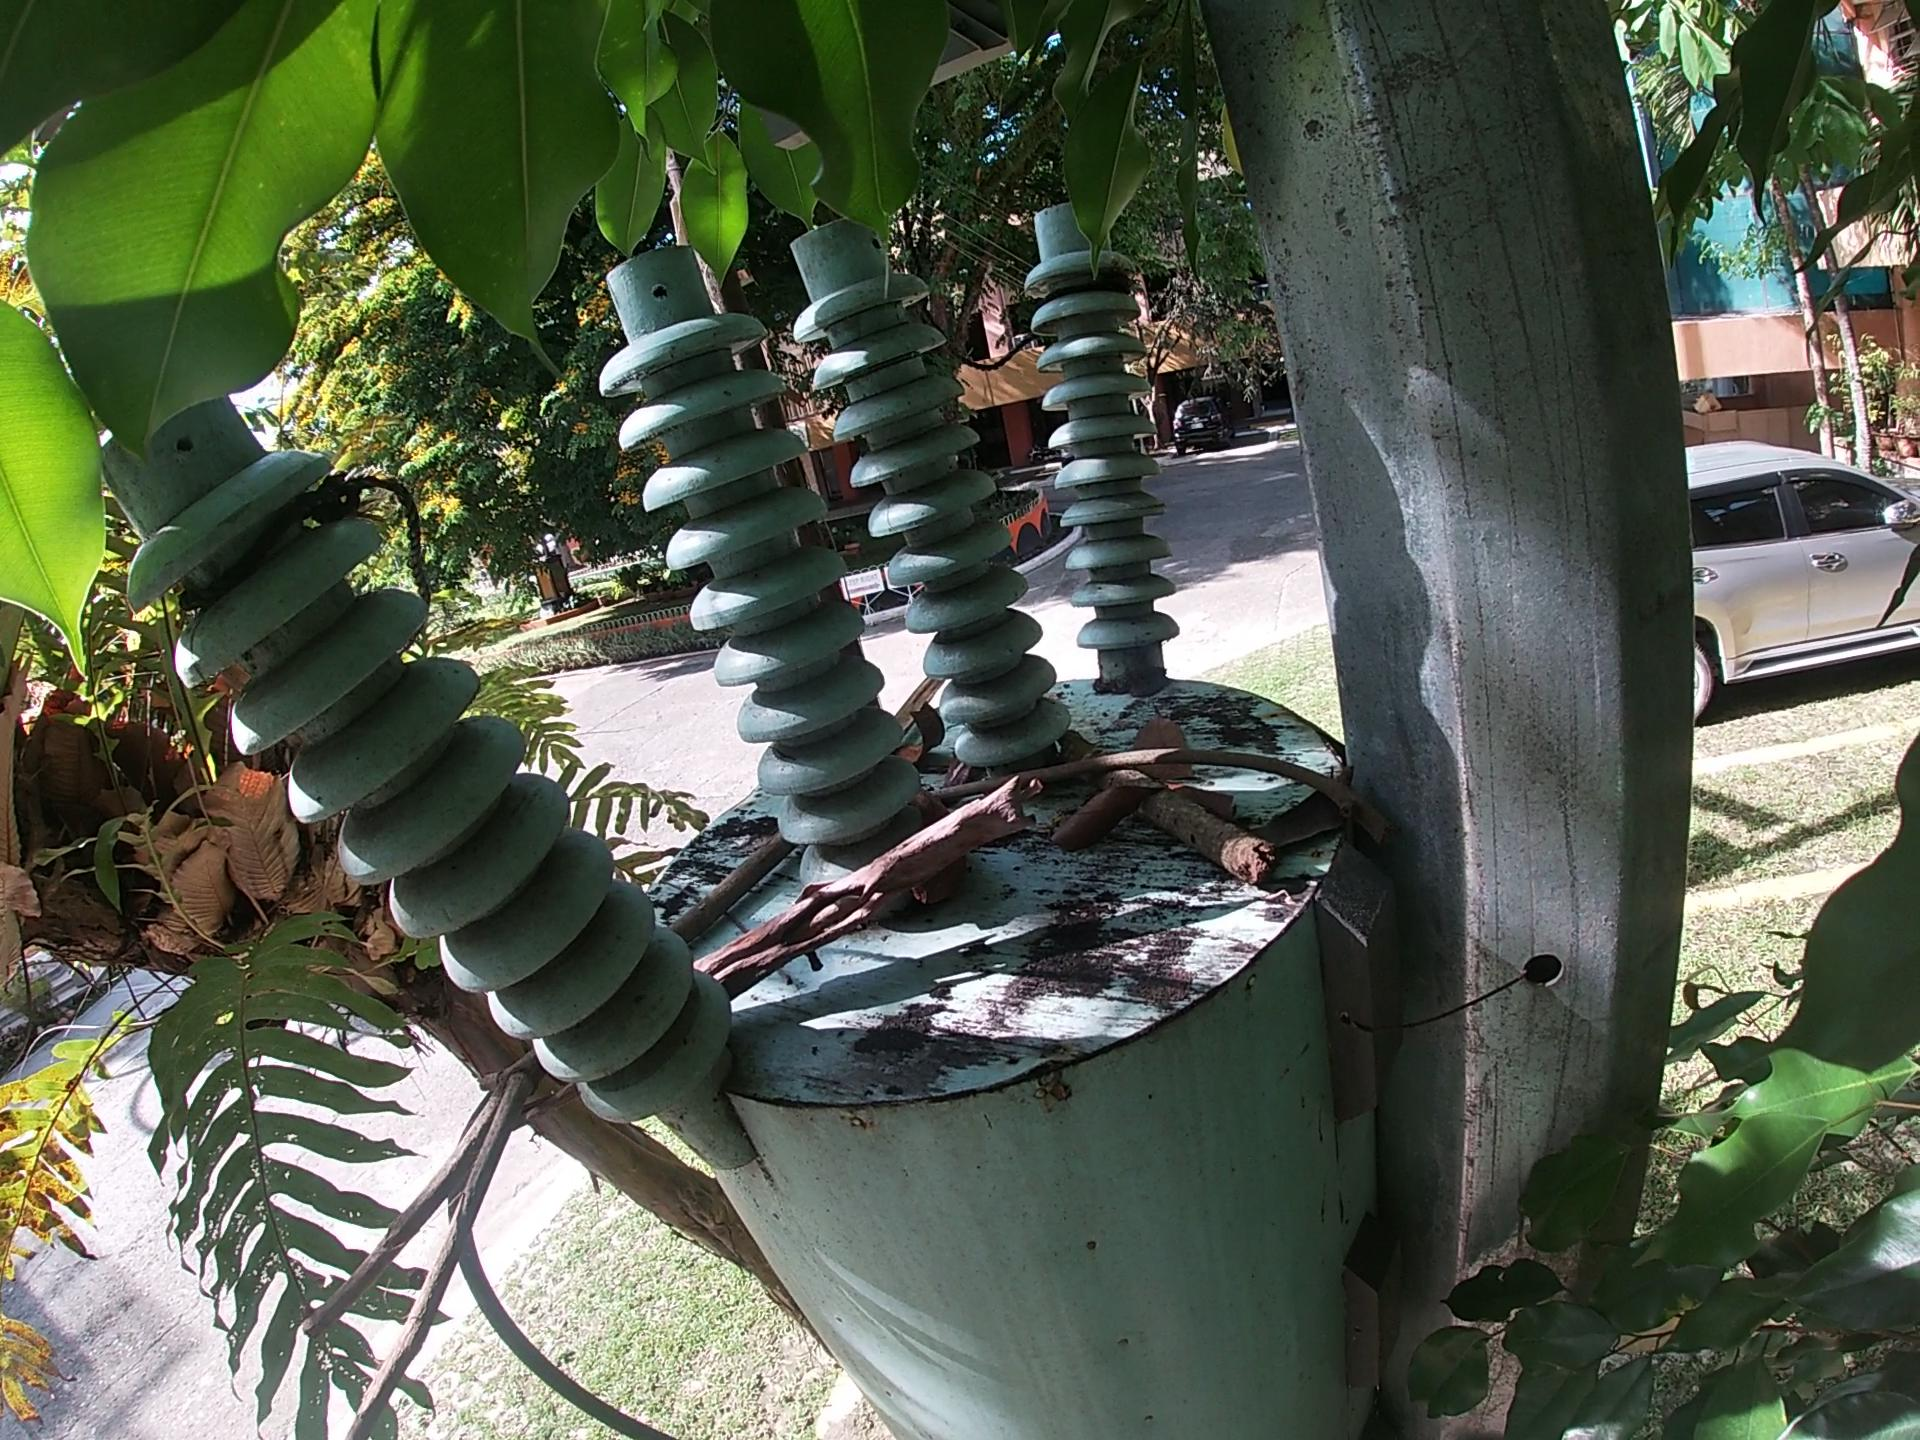leaf: (1055, 777, 1179, 846), (1141, 706, 1208, 784)
mahogany fruit: (909, 700, 945, 743)
tree branch: (280, 1059, 578, 1434), (695, 767, 1045, 974), (909, 746, 1374, 817), (1066, 737, 1277, 885), (671, 829, 798, 938), (901, 666, 952, 755)
